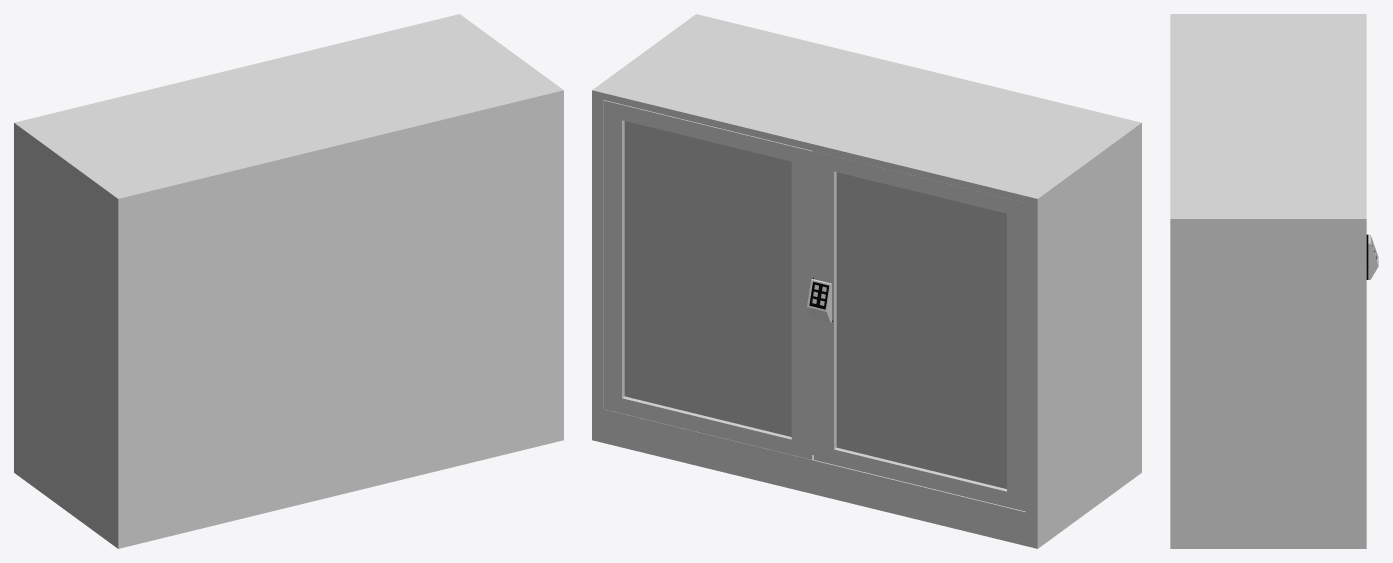
The model's file is Lemari Interact.fbx.
3 renders of one model, left to right at view 1: azimuth 30°, elevation 25°; view 2: azimuth 150°, elevation 25°; view 3: azimuth 270°, elevation 25°, orthographic. The views are drawn at different scales.
Visible parts, largest first — view 1: Cube.031; view 2: Cube.031, Cube.014, Cube.012, Cube.025, Cube.020; view 3: Cube.031, Cube.025.
Part boxes in pixels (x1,y1,x2,y2): Cube.031: (14,14,563,548); Cube.031: (592,14,1141,548); Cube.014: (836,172,1006,488); Cube.012: (624,121,791,436); Cube.025: (807,151,1025,511); Cube.020: (604,100,813,459); Cube.031: (1170,14,1366,548); Cube.025: (1366,234,1378,279).
Size of the model in its own units: 515 by 386 by 221.
